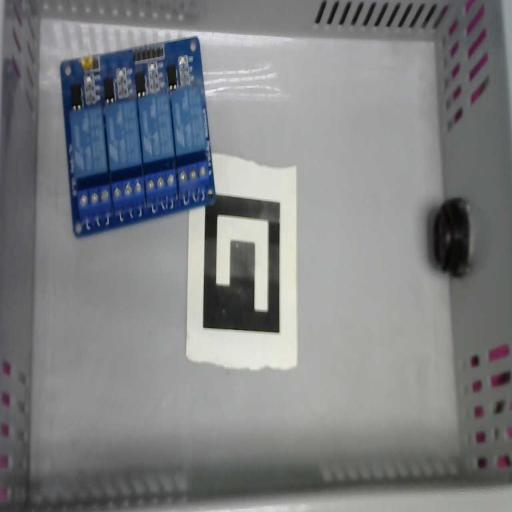QR: (186, 153, 298, 371)
relay_module: (60, 37, 216, 237)
